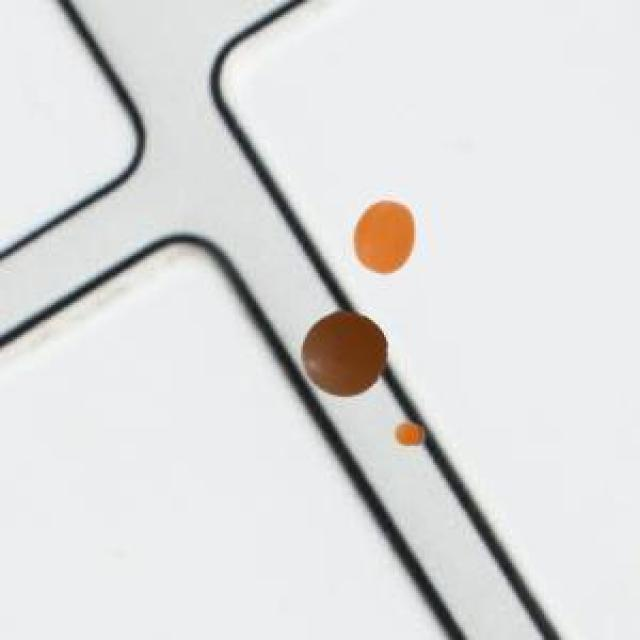Bactidol: (294, 301, 391, 404), (343, 188, 428, 282), (385, 411, 439, 456)
